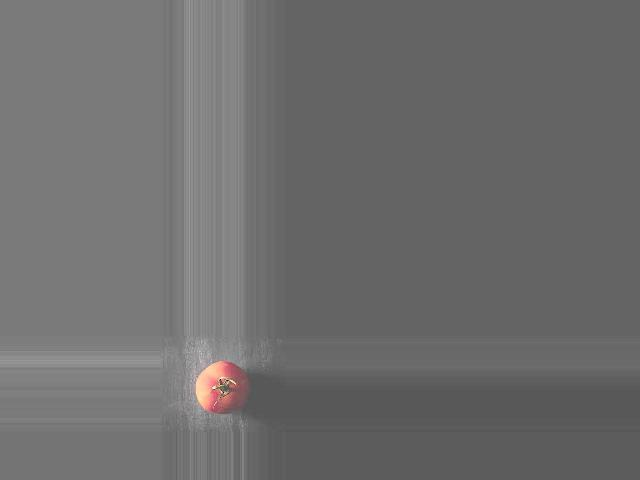tomato: (195, 361, 248, 413)
